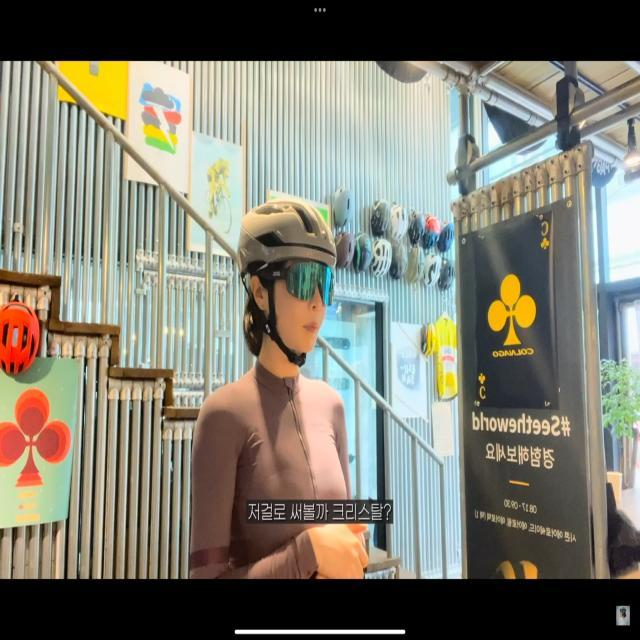Helmet: (231, 196, 341, 368)
